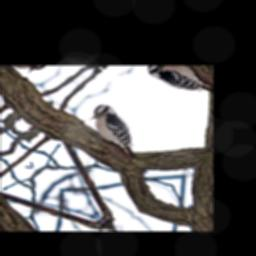Woodpecker: (75, 102, 155, 164)
